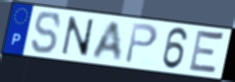6: (161, 26, 189, 71)
A: (90, 20, 123, 62)
E: (186, 28, 226, 78)
N: (60, 15, 96, 59)
P: (123, 21, 160, 65)
S: (30, 10, 63, 56)
